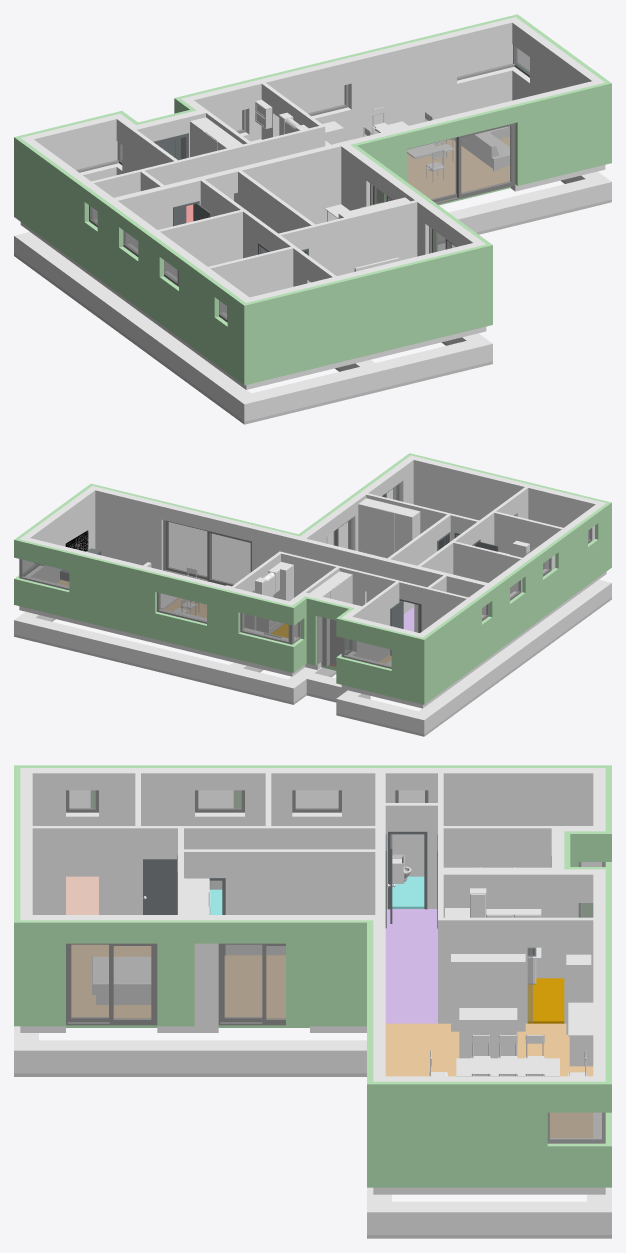
The picture shows the model from 3 angles, top to bottom: view 1: azimuth 30°, elevation 25°; view 2: azimuth 150°, elevation 25°; view 3: azimuth 270°, elevation 25°; orthographic projection. The views are drawn at different scales.
Visible parts, largest first — view 1: zateplenie|izolácia||lightgreen, obvodove_mury|obvod||material, zaklady|základy||material, pricky|group_2||material, nosna_pricka|group_1||material, pricky|priečky_140||material, podlaha|group_19|obyvacka|Color_C03, portaly|group_37||Translucent_Glass_Gray, portaly|group_26||Translucent_Glass_Gray, zaklady|group_0||Groundcover_Gravel_1_inch, zariadenie|group_67||Translucent_Glass_Gray, zariadenie|group_184||material (+5 smaller); view 2: zateplenie|izolácia||lightgreen, obvodove_mury|obvod||material, zaklady|základy||material, pricky|group_2||material, pricky|priečky_140||material, nosna_pricka|group_1||material, zariadenie|group_203||material, zaklady|group_0||Groundcover_Gravel_1_inch, portaly|group_37||Translucent_Glass_Gray, portaly|group_26||Translucent_Glass_Gray, okna|group_52||Translucent_Glass_Gray, okna|group_227||Translucent_Glass_Gray (+8 smaller); view 3: zateplenie|izolácia||lightgreen, obvodove_mury|obvod||material, pricky|group_2||material, zaklady|základy||material, pricky|priečky_140||material, podlaha|group_19|obyvacka|Color_C03, podlaha|group_20|chodba|Color_J02, zariadenie|group_230||material, podlaha|group_15|pracovna|Color_C03, zariadenie|group_208||material, portaly|group_33||Translucent_Glass_Gray, portaly|group_32||Translucent_Glass_Gray (+25 smaller).
Part boxes in pixels (x1,y1,x2,y2): zateplenie|izolácia||lightgreen: (14, 14, 611, 385); obvodove_mury|obvod||material: (20, 17, 605, 389); zaklady|základy||material: (14, 171, 611, 421); pricky|group_2||material: (158, 170, 417, 313); nosna_pricka|group_1||material: (114, 143, 341, 248); pricky|priečky_140||material: (91, 83, 325, 200); podlaha|group_19|obyvacka|Color_C03: (407, 137, 509, 198); portaly|group_37||Translucent_Glass_Gray: (461, 126, 511, 193); portaly|group_26||Translucent_Glass_Gray: (407, 137, 456, 199); zaklady|group_0||Groundcover_Gravel_1_inch: (14, 180, 611, 424); zariadenie|group_67||Translucent_Glass_Gray: (457, 44, 529, 77); zariadenie|group_184||material: (451, 126, 509, 170); zateplenie|izolácia||lightgreen: (14, 453, 611, 704); obvodove_mury|obvod||material: (19, 455, 606, 708); zaklady|základy||material: (14, 580, 611, 734); pricky|group_2||material: (366, 487, 562, 613); pricky|priečky_140||material: (231, 551, 468, 661); nosna_pricka|group_1||material: (303, 538, 487, 632); zariadenie|group_203||material: (358, 498, 420, 558); zaklady|group_0||Groundcover_Gravel_1_inch: (14, 597, 611, 736); portaly|group_37||Translucent_Glass_Gray: (168, 522, 207, 576); portaly|group_26||Translucent_Glass_Gray: (210, 533, 250, 584); okna|group_52||Translucent_Glass_Gray: (242, 613, 299, 641); okna|group_227||Translucent_Glass_Gray: (158, 593, 206, 621); zateplenie|izolácia||lightgreen: (14, 765, 611, 1187); obvodove_mury|obvod||material: (20, 768, 605, 1194); pricky|group_2||material: (32, 773, 375, 954); zaklady|základy||material: (14, 1026, 611, 1234); pricky|priečky_140||material: (385, 773, 593, 1023); podlaha|group_19|obyvacka|Color_C03: (385, 1023, 593, 1137); podlaha|group_20|chodba|Color_J02: (385, 909, 437, 1023); zariadenie|group_230||material: (451, 954, 525, 1031); podlaha|group_15|pracovna|Color_C03: (225, 955, 285, 1017); zariadenie|group_208||material: (429, 1034, 586, 1076); portaly|group_33||Translucent_Glass_Gray: (113, 946, 151, 1019); portaly|group_32||Translucent_Glass_Gray: (224, 944, 262, 1017).
Size of the model in its own units: 18.17 by 4.1 by 14.4.
